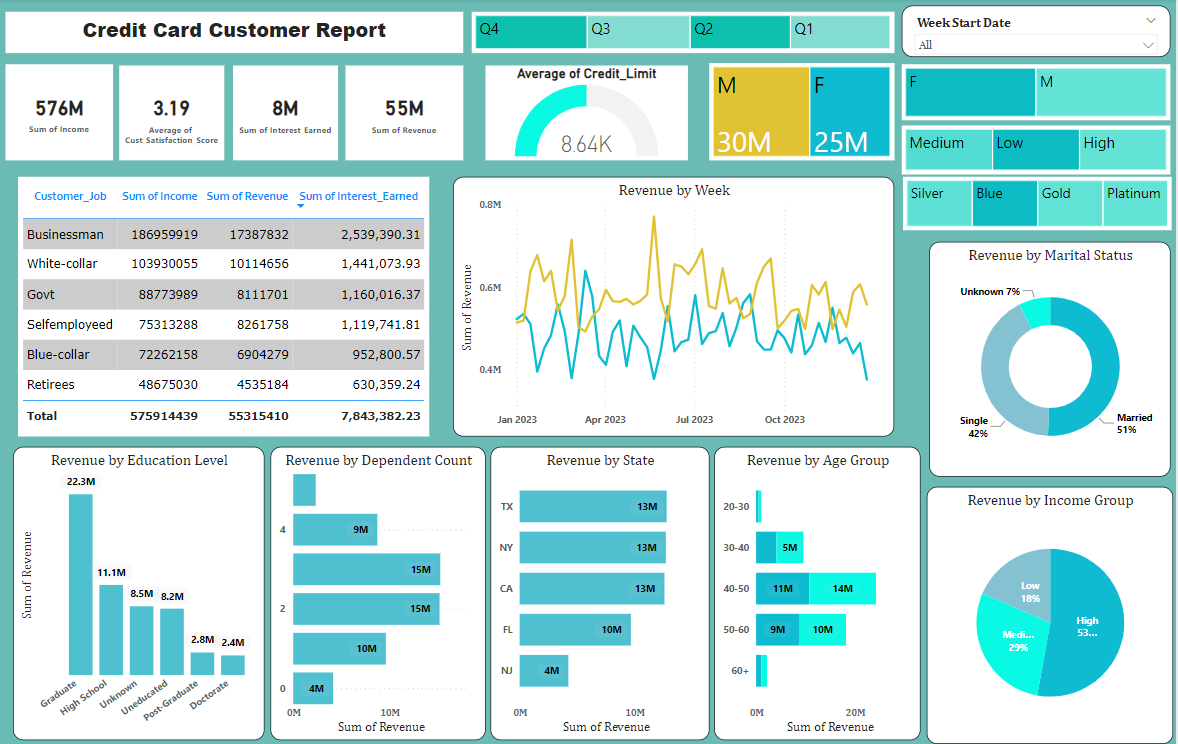

This screenshot's page, from the dashboard's own definition file:
{"tool":"powerbi","page":{"name":"CC Customer","canvas":[1480,950],"ordinal":1},"visuals":[{"type":"textbox","box":[9.4,17.3,574.9,51.8],"z":0},{"type":"pieChart","title":"Revenue by Income Group","fields":{"Category":["practisepowerbi cust_detail.incomeGroup"],"Y":["Sum(practisepowerbi cc_detail.Revenue)"]},"box":[1167.1,614.2,309.4,323.6],"z":1000},{"type":"tableEx","fields":{"Values":["practisepowerbi cust_detail.Customer_Job","Sum(practisepowerbi cust_detail.Income)","Sum(practisepowerbi cc_detail.Revenue)","Sum(practisepowerbi cc_detail.Interest_Earned)"]},"box":[25.1,224.6,516.8,326.7],"z":2000},{"type":"card","fields":{"Values":["Sum(practisepowerbi cc_detail.Revenue)"]},"box":[436.7,84.8,147.7,119.4],"z":3000},{"type":"card","fields":{"Values":["Sum(practisepowerbi cust_detail.Income)"]},"box":[9.4,83.3,135.1,120.9],"z":4000},{"type":"card","fields":{"Values":["Sum(practisepowerbi cc_detail.Interest_Earned)"]},"box":[295.3,84.8,131.9,119.4],"z":5000},{"type":"card","fields":{"Values":["Avg(practisepowerbi cust_detail.Cust_Satisfaction_Score)"]},"box":[152.4,84.8,131.9,119.4],"z":6000},{"type":"slicer","fields":{"Values":["practisepowerbi cc_detail.Week_Start_Date"]},"box":[1135.7,9.4,337.7,64.4],"z":7000},{"type":"treemap","fields":{"Group":["practisepowerbi cc_detail.Qtr"],"Values":["Avg(practisepowerbi cc_detail.ï»¿Client_Num)"]},"box":[595.3,17.3,530.9,51.8],"z":8000},{"type":"treemap","fields":{"Group":["practisepowerbi cust_detail.Gender"],"Values":["Avg(practisepowerbi cc_detail.ï»¿Client_Num)"]},"box":[1135.7,83.3,337.7,70.7],"z":9000},{"type":"treemap","fields":{"Group":["practisepowerbi cc_detail.Card_Category"],"Values":["Avg(practisepowerbi cc_detail.ï»¿Client_Num)"]},"box":[1137.2,224.6,337.7,67.5],"z":10000},{"type":"treemap","fields":{"Group":["practisepowerbi cust_detail.incomeGroup"],"Values":["Avg(practisepowerbi cc_detail.ï»¿Client_Num)"]},"box":[1135.7,160.2,337.7,61.3],"z":11000},{"type":"lineChart","title":"Revenue by Week","fields":{"Y":["Sum(practisepowerbi cc_detail.Revenue)"],"Series":["practisepowerbi cust_detail.Gender"],"Category":["practisepowerbi cc_detail.Week_Start_Date.Variation.Date Hierarchy.Year","practisepowerbi cc_detail.Week_Start_Date.Variation.Date Hierarchy.Month","practisepowerbi cc_detail.Week_Start_Date.Variation.Date Hierarchy.Day"]},"box":[571.8,224.6,554.5,326.7],"z":12000},{"type":"treemap","fields":{"Group":["practisepowerbi cust_detail.Gender"],"Values":["Sum(practisepowerbi cc_detail.Revenue)"]},"box":[893.8,81.7,232.5,122.5],"z":13000},{"type":"barChart","title":"Revenue by Age Group","fields":{"Category":["practisepowerbi cust_detail.ageGroup"],"Y":["Sum(practisepowerbi cc_detail.Revenue)"],"Series":["practisepowerbi cust_detail.Gender"]},"box":[900.1,563.9,259.2,369.1],"z":14000},{"type":"clusteredBarChart","title":"Revenue by Dependent Count","fields":{"Category":["practisepowerbi cust_detail.Dependent_Count"],"Y":["Sum(practisepowerbi cc_detail.Revenue)"]},"box":[342.4,563.9,270.2,369.1],"z":15000},{"type":"clusteredColumnChart","title":"Revenue by Education Level","fields":{"Category":["practisepowerbi cust_detail.Education_Level"],"Y":["Sum(practisepowerbi cc_detail.Revenue)"]},"box":[18.8,563.9,315.7,369.1],"z":16000},{"type":"clusteredBarChart","title":"Revenue by State","fields":{"Category":["practisepowerbi cust_detail.state_cd"],"Y":["Sum(practisepowerbi cc_detail.Revenue)"]},"box":[618.9,563.9,274.9,369.1],"z":17000},{"type":"donutChart","title":"Revenue by Marital Status","fields":{"Category":["practisepowerbi cust_detail.Marital_Status"],"Y":["Sum(practisepowerbi cc_detail.Revenue)"]},"box":[1170.2,306.3,303.2,295.3],"z":18000},{"type":"gauge","fields":{"Y":["Avg(practisepowerbi cc_detail.Credit_Limit)"]},"box":[612.6,84.8,254.5,119.4],"z":19000}]}

Visuals, with their boxes in screenshot pixels (x1, y1, x2, y2), scaled from the page's 1480x950 canvas onto the 1178x744 screenshot:
textbox: (7,14,465,54)
"Revenue by Income Group" pieChart: (929,481,1175,734)
tableEx - practisepowerbi cust_detail.Customer_Job x Sum(practisepowerbi cust_detail.Income): (20,176,431,432)
card - Sum(practisepowerbi cc_detail.Revenue): (348,66,465,160)
card - Sum(practisepowerbi cust_detail.Income): (7,65,115,160)
card - Sum(practisepowerbi cc_detail.Interest_Earned): (235,66,340,160)
card - Avg(practisepowerbi cust_detail.Cust_Satisfaction_Score): (121,66,226,160)
slicer - practisepowerbi cc_detail.Week_Start_Date: (904,7,1173,58)
treemap - practisepowerbi cc_detail.Qtr x Avg(practisepowerbi cc_detail.ï»¿Client_Num): (474,14,896,54)
treemap - practisepowerbi cust_detail.Gender x Avg(practisepowerbi cc_detail.ï»¿Client_Num): (904,65,1173,121)
treemap - practisepowerbi cc_detail.Card_Category x Avg(practisepowerbi cc_detail.ï»¿Client_Num): (905,176,1174,229)
treemap - practisepowerbi cust_detail.incomeGroup x Avg(practisepowerbi cc_detail.ï»¿Client_Num): (904,125,1173,173)
"Revenue by Week" lineChart: (455,176,896,432)
treemap - practisepowerbi cust_detail.Gender x Sum(practisepowerbi cc_detail.Revenue): (711,64,896,160)
"Revenue by Age Group" barChart: (716,442,923,731)
"Revenue by Dependent Count" clusteredBarChart: (273,442,488,731)
"Revenue by Education Level" clusteredColumnChart: (15,442,266,731)
"Revenue by State" clusteredBarChart: (493,442,711,731)
"Revenue by Marital Status" donutChart: (931,240,1173,471)
gauge - Avg(practisepowerbi cc_detail.Credit_Limit): (488,66,690,160)
